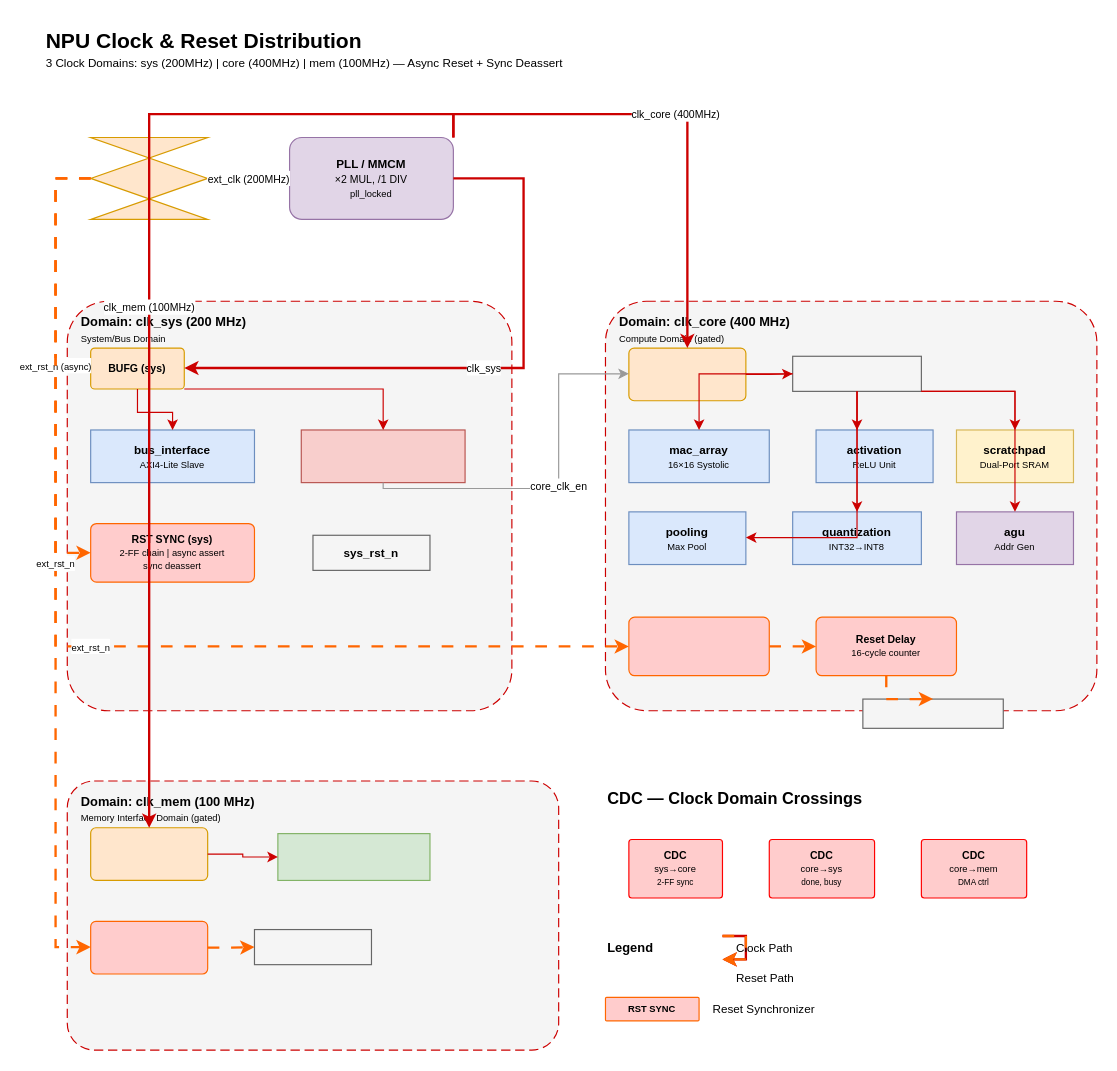
The diagram is 1117 pixels wide and 1071 high, and some of its shapes have lost their labels. The shapes that lost their labels are listed below. From the top down, each one's centre as x and y in pixels, then its label:
At point 149,177: "External Oscillator 200 MHz".
At point 687,374: "BUFGCE (core) Clock Gate Cell".
At point 856,373: "gated_core_clk".
At point 382,456: "controller Top-Level FSM".
At point 698,646: "RST SYNC (core) 2-FF chain".
At point 932,713: "core_rst_n_final".
At point 149,853: "BUFGCE (mem) Clock Gate Cell".
At point 353,856: "dma_engine AXI4 Master".
At point 149,947: "RST SYNC (mem) 2-FF chain".
At point 312,946: "mem_rst_n".
